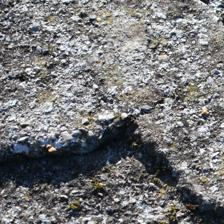Crack: (55, 21, 166, 110), (31, 96, 157, 162)
